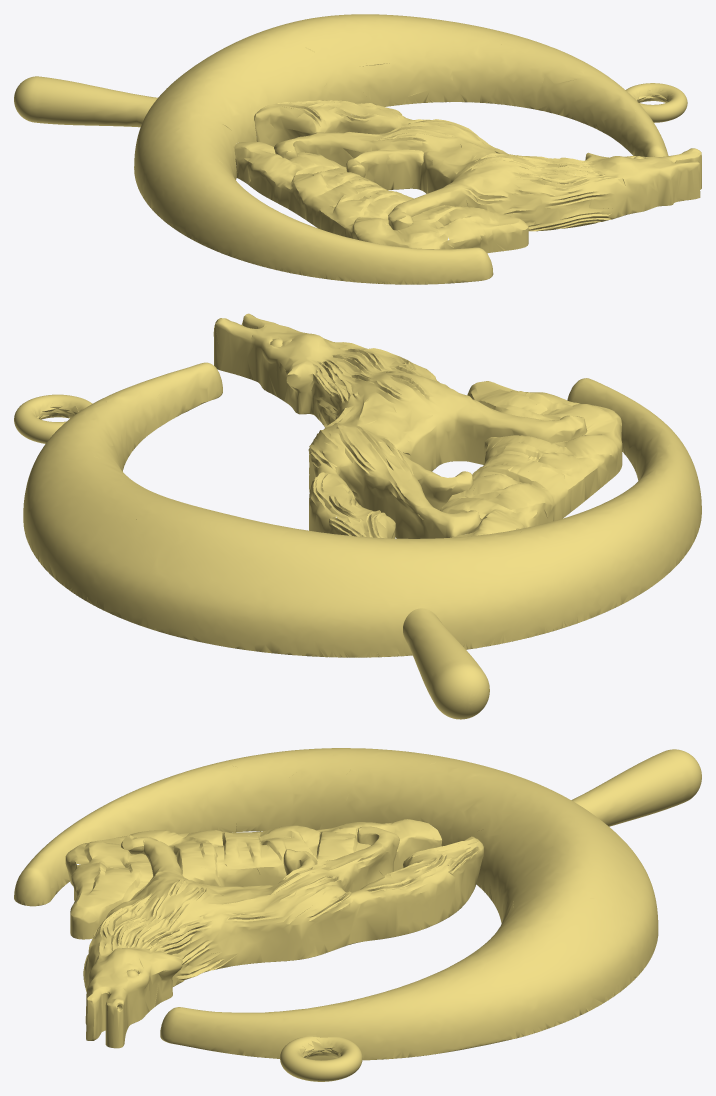
File: bozkurt.glb
The picture shows the model from 3 angles, top to bottom: view 1: azimuth 30°, elevation 25°; view 2: azimuth 150°, elevation 25°; view 3: azimuth 270°, elevation 25°; orthographic projection. The views are drawn at different scales.
Visible parts, largest first — view 1: Renderer Node; view 2: Renderer Node; view 3: Renderer Node.
Part boxes in pixels (left/top/right/bottom): Renderer Node: left=14, top=14, right=701, bottom=284; Renderer Node: left=14, top=313, right=701, bottom=719; Renderer Node: left=14, top=748, right=701, bottom=1081.
Size of the model in its own units: 23.21 by 3.05 by 22.48.
